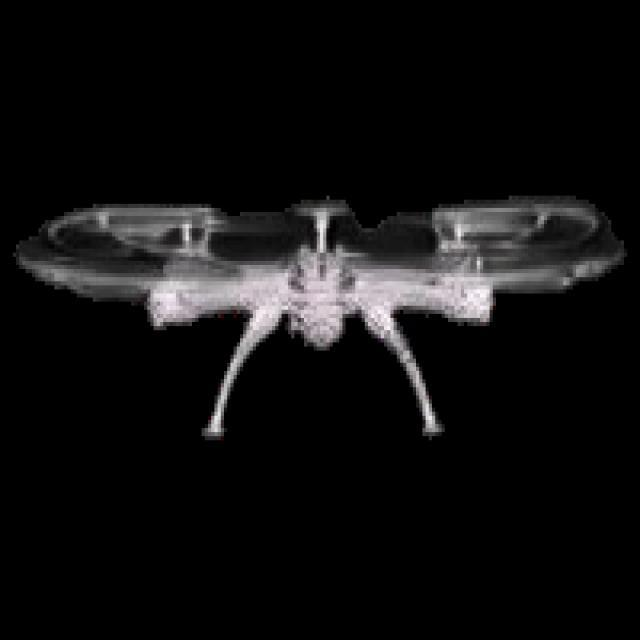drone: (23, 193, 628, 440)
